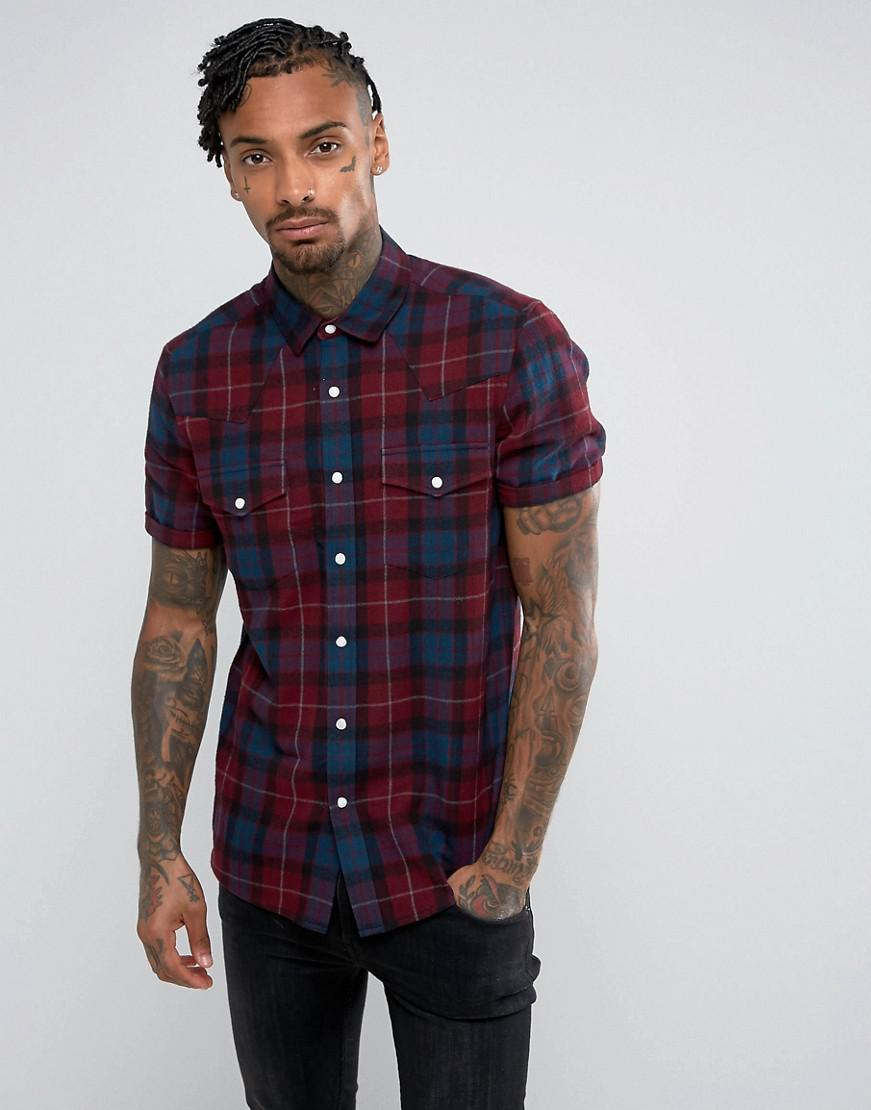teeshirt: (112, 240, 610, 937)
